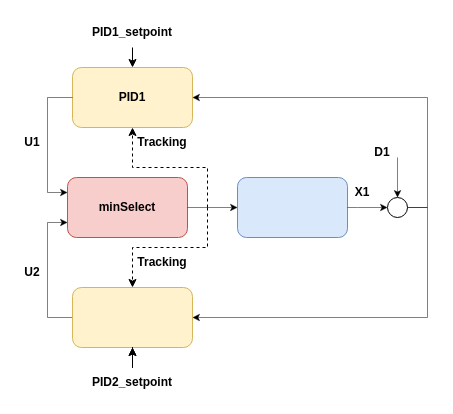
The diagram is 453 pixels wide and 414 high, and some of its shapes have lost their labels. Here are the shapes that lost their labels. From the top down, the centre of each, then its label:
At (x=292, y=207): "Process".
At (x=132, y=317): "PID2".
